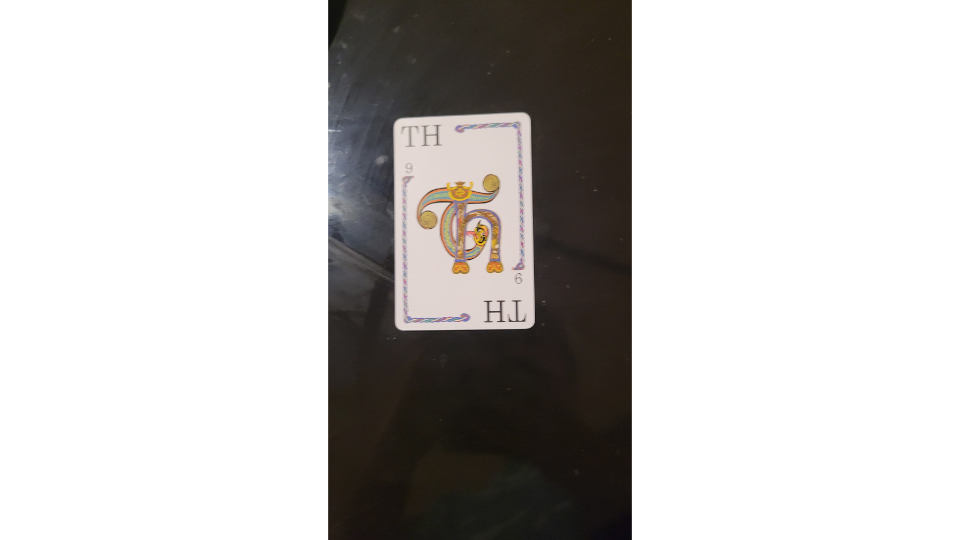TH: (388, 109, 540, 335)
